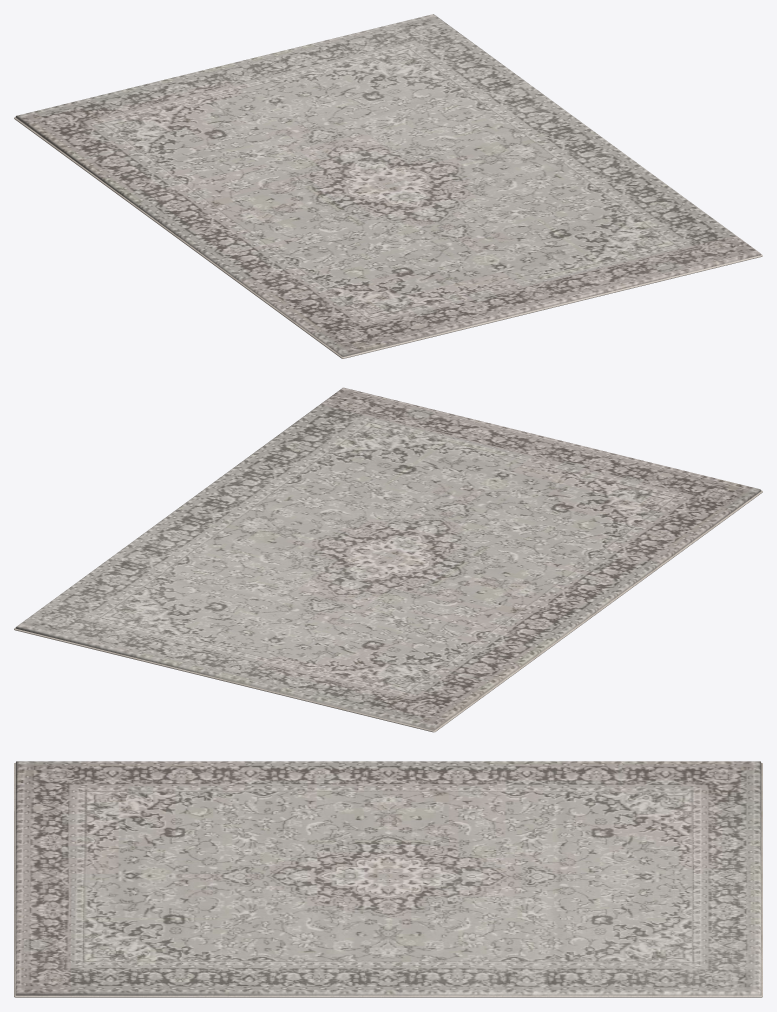
File: 20 - VEDBÄK Rug, low pile - light grey 170x230 cm.glb
3 views of the same model, one above another, from view 1: azimuth 30°, elevation 25°; view 2: azimuth 150°, elevation 25°; view 3: azimuth 270°, elevation 25° (orthographic). The views are drawn at different scales.
Visible parts, largest first — view 1: Mesh_0; view 2: Mesh_0; view 3: Mesh_0.
Boxes of the visible parts, x1,y1,x2,y2 form: Mesh_0: (14,14,762,358); Mesh_0: (14,387,762,732); Mesh_0: (14,761,762,997).
Size of the model in its own units: 1.7 by 0.015 by 2.3.
Materials: 1 (1 with a texture image).
